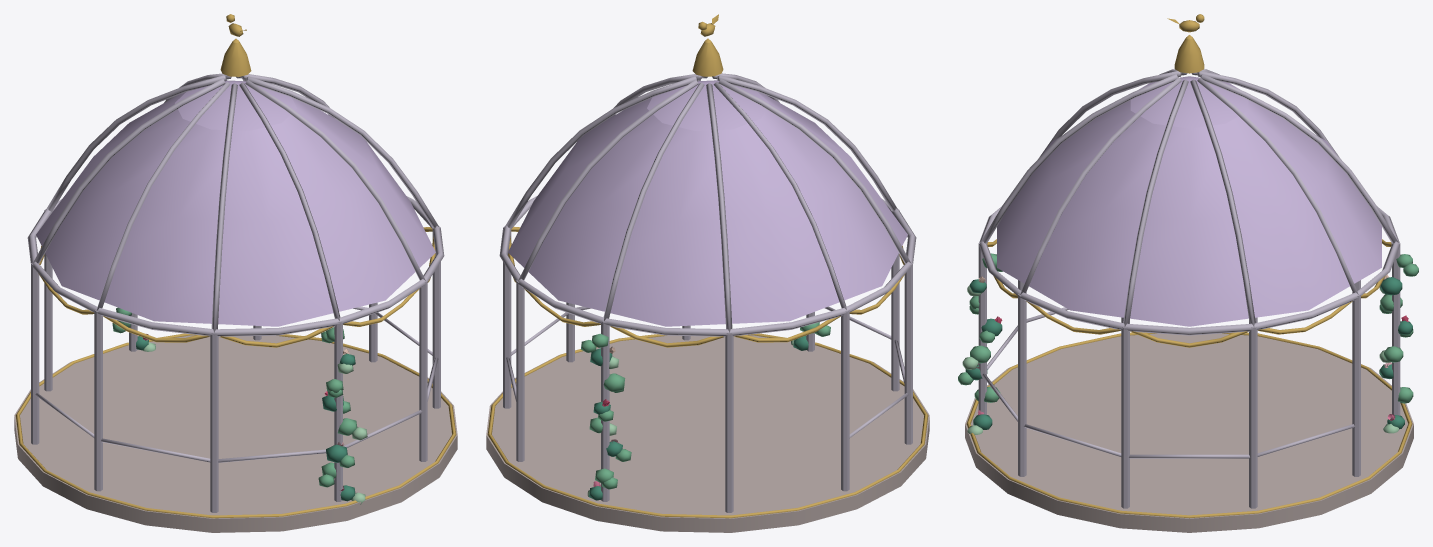
Rendered from birdcage_pavilion.glb.
3 renders of one model, left to right at view 1: azimuth 30°, elevation 25°; view 2: azimuth 150°, elevation 25°; view 3: azimuth 270°, elevation 25°, orthographic.
Visible parts, largest first — view 1: birdcage_pavilion; view 2: birdcage_pavilion; view 3: birdcage_pavilion.
Boxes of the visible parts, x1,y1,x2,y2 form: birdcage_pavilion: (14,14,457,532); birdcage_pavilion: (486,14,929,532); birdcage_pavilion: (958,14,1418,532).
Size of what is drawn, in the model's own units: 6.3 by 6.57 by 6.47.
